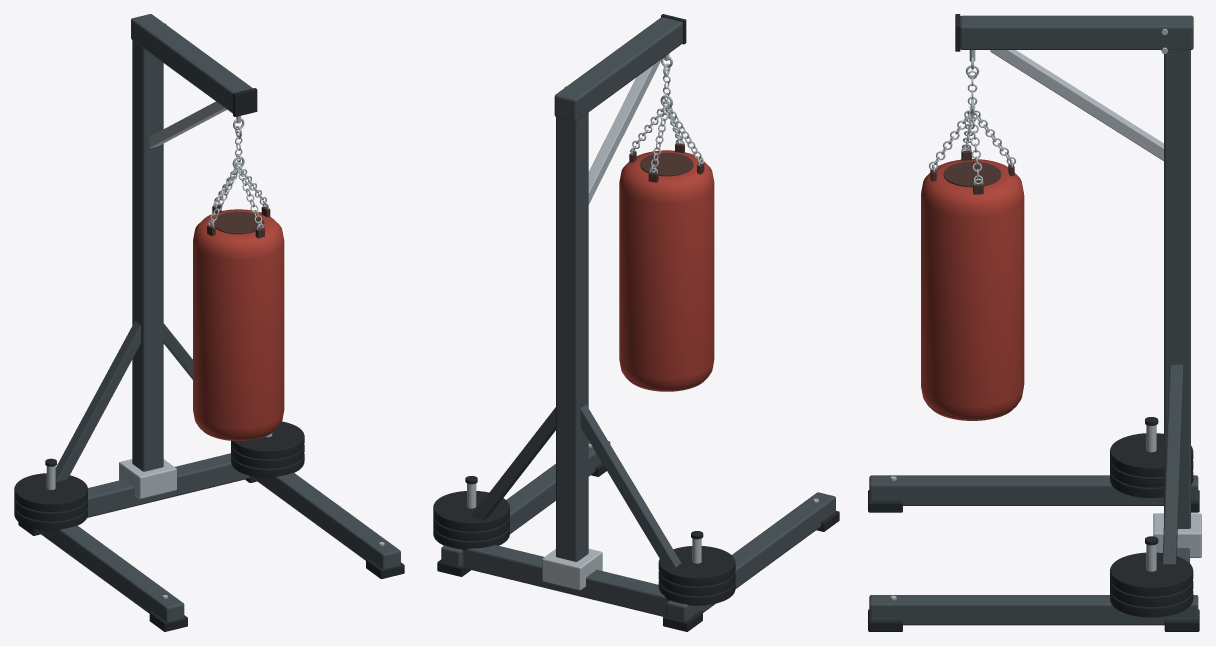
The model's file is city-boxing-heavy-bag-stand.glb.
3 views of the same model, side by side, from view 1: azimuth 30°, elevation 25°; view 2: azimuth 150°, elevation 25°; view 3: azimuth 270°, elevation 25° (orthographic). The views are drawn at different scales.
Parts seen in each view (by area): view 1: Assembly | Powder-coated graphite steel, Assembly | Muted oxblood upholstered bag, Assembly | Dark rubber foot pads, Assembly | Satin small metal fittings, Assembly | Dark stitched edge piping; view 2: Assembly | Powder-coated graphite steel, Assembly | Muted oxblood upholstered bag, Assembly | Dark rubber foot pads, Assembly | Satin small metal fittings, Assembly | Dark stitched edge piping; view 3: Assembly | Powder-coated graphite steel, Assembly | Muted oxblood upholstered bag, Assembly | Dark rubber foot pads, Assembly | Satin small metal fittings, Assembly | Dark stitched edge piping.
Boxes of the visible parts, x1,y1,x2,y2 form: Assembly | Powder-coated graphite steel: (36, 14, 400, 621); Assembly | Muted oxblood upholstered bag: (193, 209, 284, 440); Assembly | Dark rubber foot pads: (14, 88, 404, 631); Assembly | Satin small metal fittings: (46, 23, 384, 598); Assembly | Dark stitched edge piping: (198, 205, 278, 439); Assembly | Powder-coated graphite steel: (441, 17, 835, 621); Assembly | Muted oxblood upholstered bag: (619, 150, 714, 391); Assembly | Dark rubber foot pads: (433, 14, 839, 631); Assembly | Satin small metal fittings: (467, 53, 818, 590); Assembly | Dark stitched edge piping: (624, 143, 709, 389); Assembly | Powder-coated graphite steel: (869, 15, 1198, 625); Assembly | Muted oxblood upholstered bag: (921, 159, 1024, 420); Assembly | Dark rubber foot pads: (868, 14, 1199, 631); Assembly | Satin small metal fittings: (890, 29, 1201, 600); Assembly | Dark stitched edge piping: (926, 150, 1017, 418).
Size of the model in its own units: 1.58 by 2.6 by 1.44.
